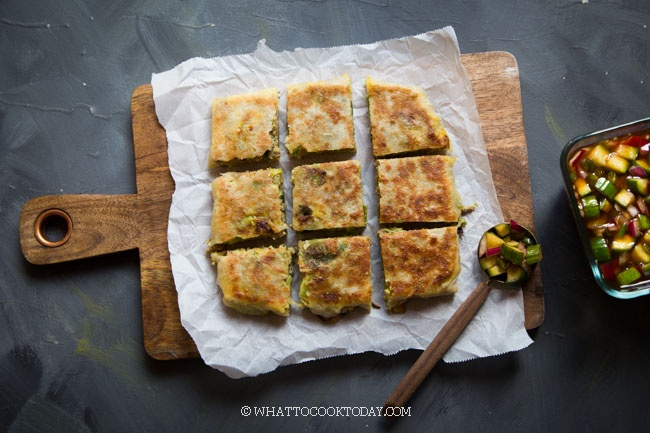martabak: (207, 74, 467, 322)
